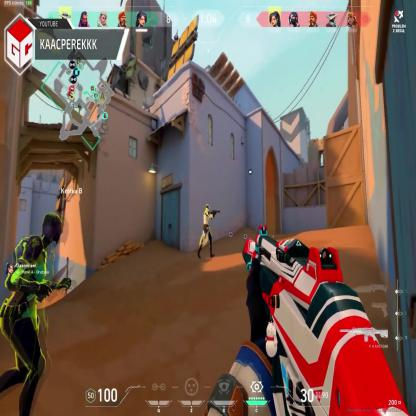enemy: (2, 208, 70, 416), (198, 202, 220, 258)
enemy_head: (42, 215, 66, 247), (206, 203, 210, 210)
